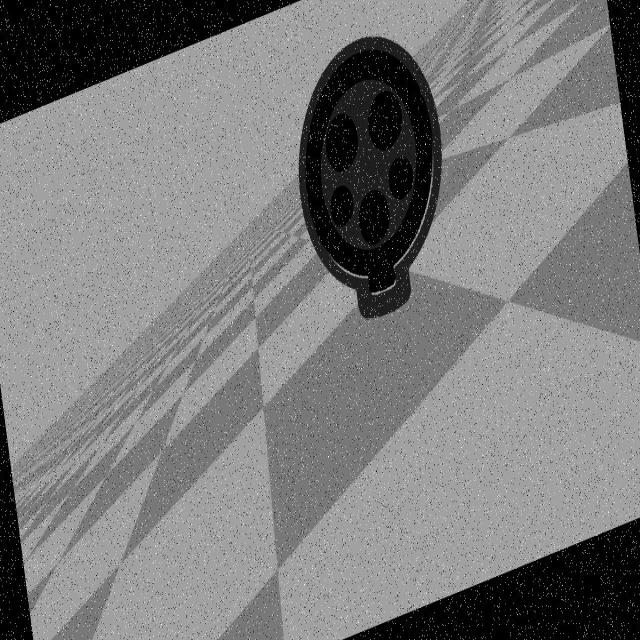Type 1: (282, 30, 466, 337)
